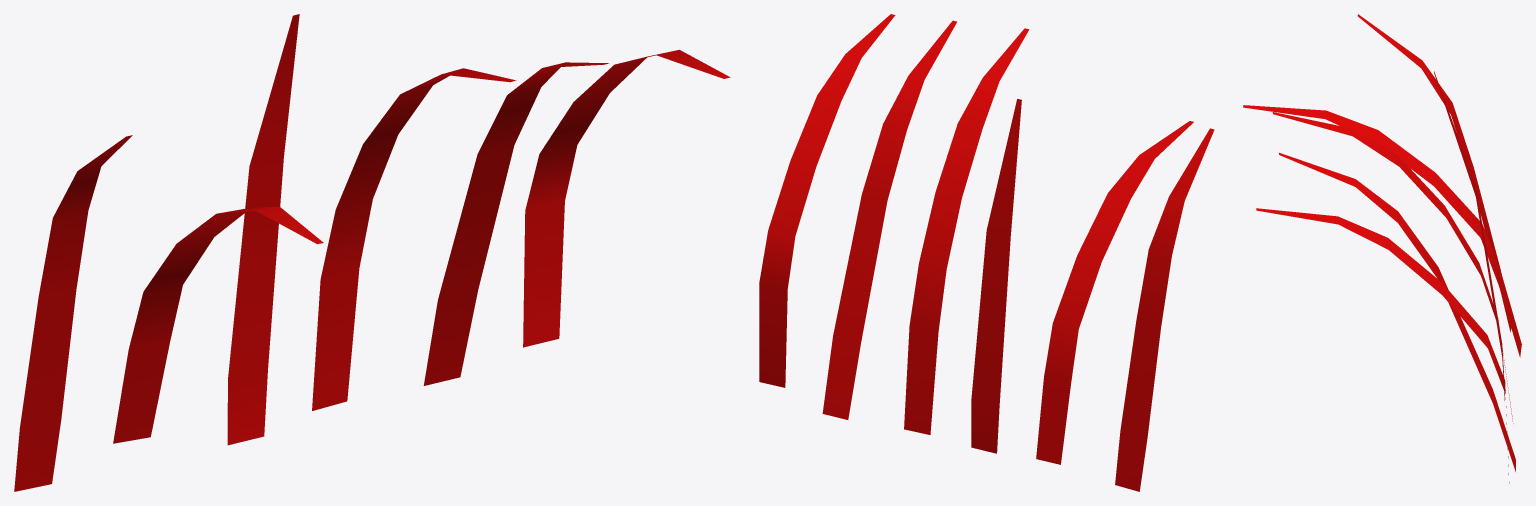
Rendered from sm_Blades.fbx.
3 views of the same model, side by side, from view 1: azimuth 30°, elevation 25°; view 2: azimuth 150°, elevation 25°; view 3: azimuth 270°, elevation 25° (orthographic). The views are drawn at different scales.
Visible parts, largest first — view 1: sm_Blades; view 2: sm_Blades; view 3: sm_Blades.
Part boxes in pixels (x1,y1,x2,y2): sm_Blades: (14,14,730,491); sm_Blades: (759,14,1214,491); sm_Blades: (1243,14,1521,483).
Size of the model in its own units: 114 by 91.8 by 70.87.
